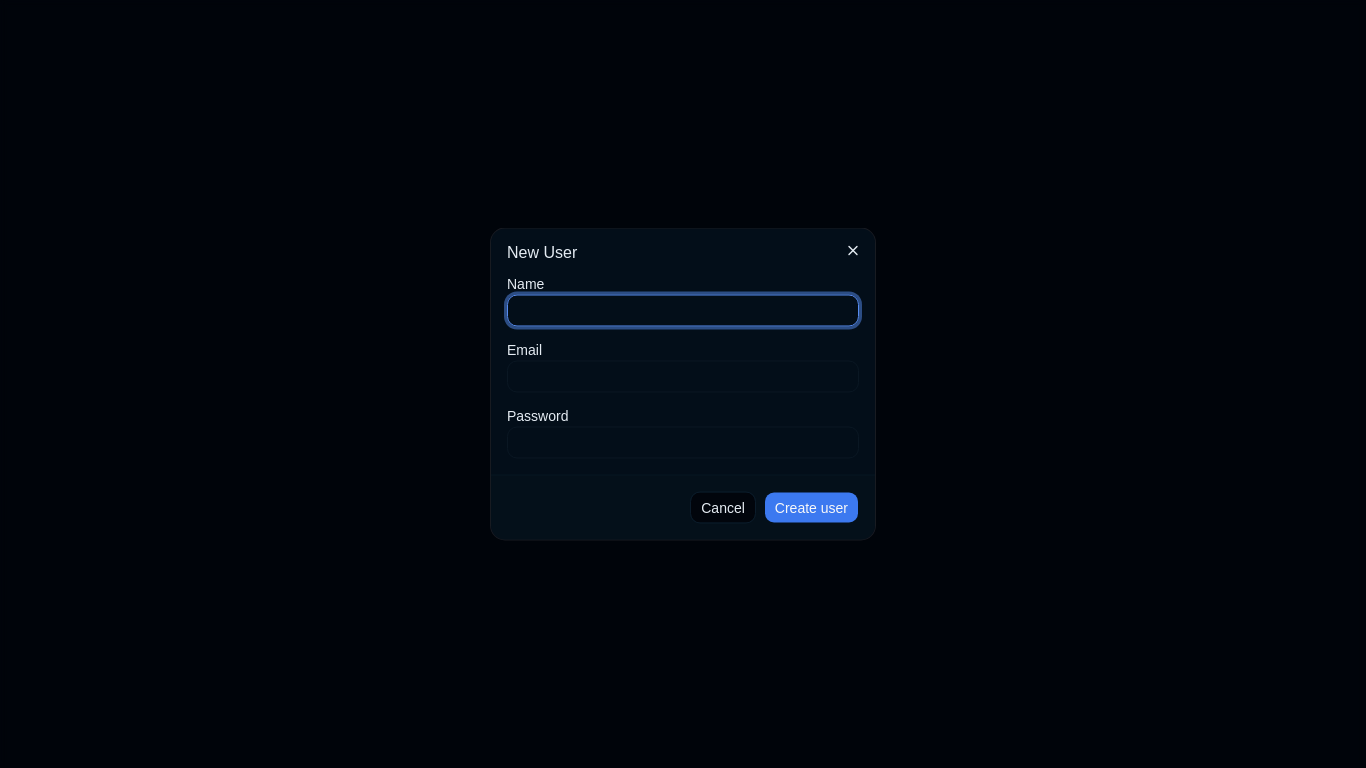
Test case: CreateUserModal › validation › shows an error when name is empty
This screenshot has width=1366, height=768.
Click the button "Create user" at [811, 508], box [764, 492, 859, 524]
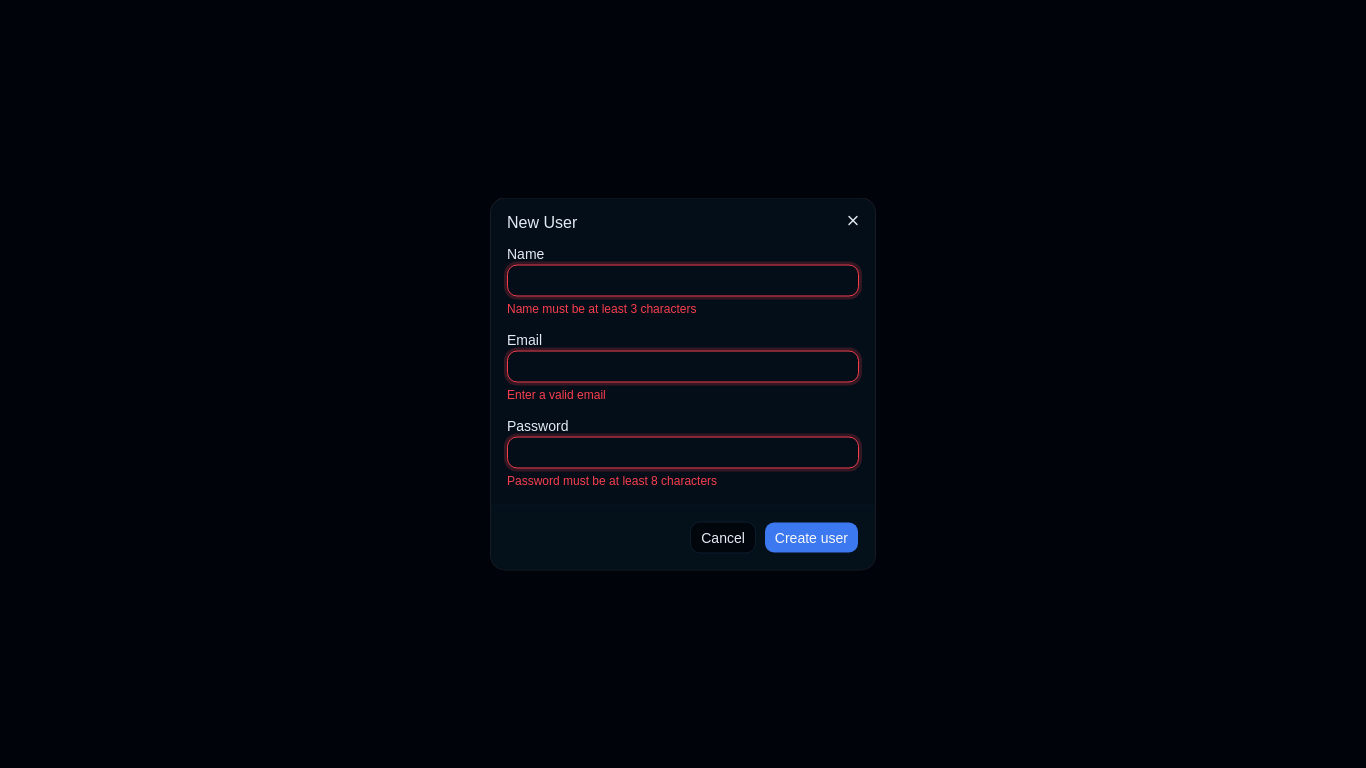
Check: the text "Name must be at least 3 characters" is shown, box [507, 302, 696, 316]
